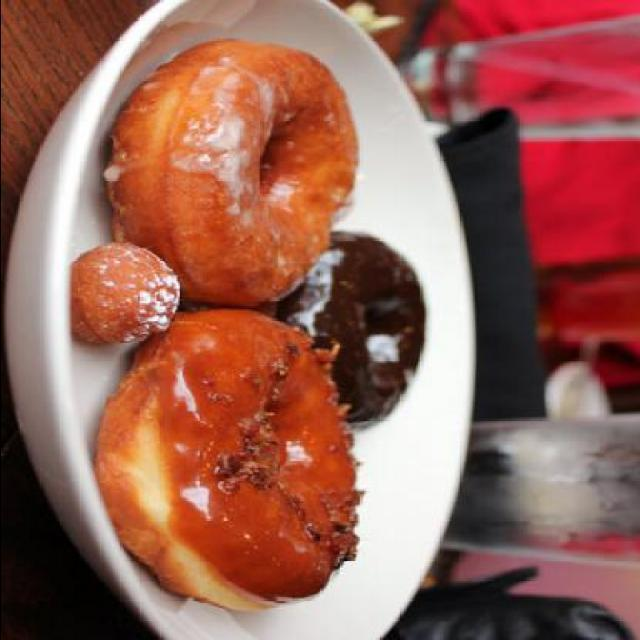Donuts: (78, 46, 430, 634)
